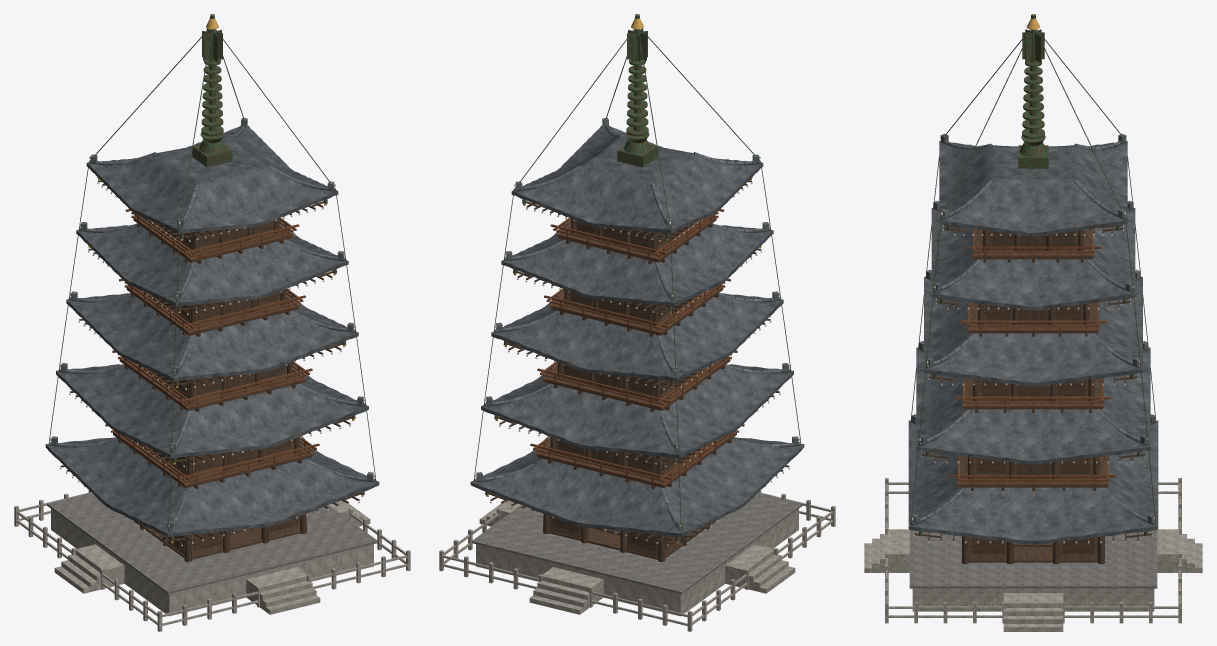
Rendered from toji_gojunoto.glb.
3 views of the same model, side by side, from view 1: azimuth 30°, elevation 25°; view 2: azimuth 150°, elevation 25°; view 3: azimuth 270°, elevation 25° (orthographic). The views are drawn at different scales.
Visible parts, largest first — view 1: TojiMerged_Toji_KawaraDark_TemplePBR, TojiMerged_Toji_GraniteLight_TemplePBR, TojiMerged_Toji_TimberDark_TemplePBR, Pagoda_PodiumCap, TojiMerged_Toji_KoranOchre_TemplePBR, TojiMerged_Toji_BronzeVerdigris_TemplePBR, TojiMerged_Toji_KawaraRidge_TemplePBR, TojiMerged_Toji_TimberMid_TemplePBR, TojiMerged_Toji_ShikkuiWhite_TemplePBR; view 2: TojiMerged_Toji_KawaraDark_TemplePBR, TojiMerged_Toji_GraniteLight_TemplePBR, TojiMerged_Toji_TimberDark_TemplePBR, Pagoda_PodiumCap, TojiMerged_Toji_KoranOchre_TemplePBR, TojiMerged_Toji_BronzeVerdigris_TemplePBR, TojiMerged_Toji_KawaraRidge_TemplePBR, TojiMerged_Toji_TimberMid_TemplePBR, TojiMerged_Toji_ShikkuiWhite_TemplePBR; view 3: TojiMerged_Toji_KawaraDark_TemplePBR, TojiMerged_Toji_TimberDark_TemplePBR, TojiMerged_Toji_GraniteLight_TemplePBR, Pagoda_PodiumCap, TojiMerged_Toji_BronzeVerdigris_TemplePBR, TojiMerged_Toji_KoranOchre_TemplePBR, TojiMerged_Toji_KawaraRidge_TemplePBR, TojiMerged_Toji_TimberMid_TemplePBR, TojiMerged_Toji_ShikkuiWhite_TemplePBR.
Boxes of the visible parts, box(x1,y1,x2,y2) form: TojiMerged_Toji_KawaraDark_TemplePBR: box(45, 125, 379, 536); TojiMerged_Toji_GraniteLight_TemplePBR: box(14, 490, 410, 631); TojiMerged_Toji_TimberDark_TemplePBR: box(60, 180, 360, 562); Pagoda_PodiumCap: box(47, 492, 377, 594); TojiMerged_Toji_KoranOchre_TemplePBR: box(105, 209, 319, 486); TojiMerged_Toji_BronzeVerdigris_TemplePBR: box(48, 14, 376, 541); TojiMerged_Toji_KawaraRidge_TemplePBR: box(49, 117, 375, 531); TojiMerged_Toji_TimberMid_TemplePBR: box(150, 221, 299, 557); TojiMerged_Toji_ShikkuiWhite_TemplePBR: box(50, 156, 374, 546); TojiMerged_Toji_KawaraDark_TemplePBR: box(470, 125, 804, 536); TojiMerged_Toji_GraniteLight_TemplePBR: box(439, 490, 835, 631); TojiMerged_Toji_TimberDark_TemplePBR: box(489, 180, 789, 562); Pagoda_PodiumCap: box(472, 492, 802, 594); TojiMerged_Toji_KoranOchre_TemplePBR: box(530, 209, 744, 486); TojiMerged_Toji_BronzeVerdigris_TemplePBR: box(473, 14, 801, 541); TojiMerged_Toji_KawaraRidge_TemplePBR: box(474, 117, 800, 532); TojiMerged_Toji_TimberMid_TemplePBR: box(550, 221, 699, 557); TojiMerged_Toji_ShikkuiWhite_TemplePBR: box(475, 156, 799, 546); TojiMerged_Toji_KawaraDark_TemplePBR: box(908, 141, 1158, 544); TojiMerged_Toji_TimberDark_TemplePBR: box(915, 224, 1151, 564); TojiMerged_Toji_GraniteLight_TemplePBR: box(864, 478, 1202, 631); Pagoda_PodiumCap: box(909, 530, 1157, 588); TojiMerged_Toji_BronzeVerdigris_TemplePBR: box(910, 14, 1156, 536); TojiMerged_Toji_KoranOchre_TemplePBR: box(950, 229, 1116, 485); TojiMerged_Toji_KawaraRidge_TemplePBR: box(910, 133, 1156, 525); TojiMerged_Toji_TimberMid_TemplePBR: box(969, 231, 1097, 560); TojiMerged_Toji_ShikkuiWhite_TemplePBR: box(912, 212, 1154, 543).
Bounding box in the file's own units: 17.08 × 30.36 × 17.08.
13 materials, 10 textured.
